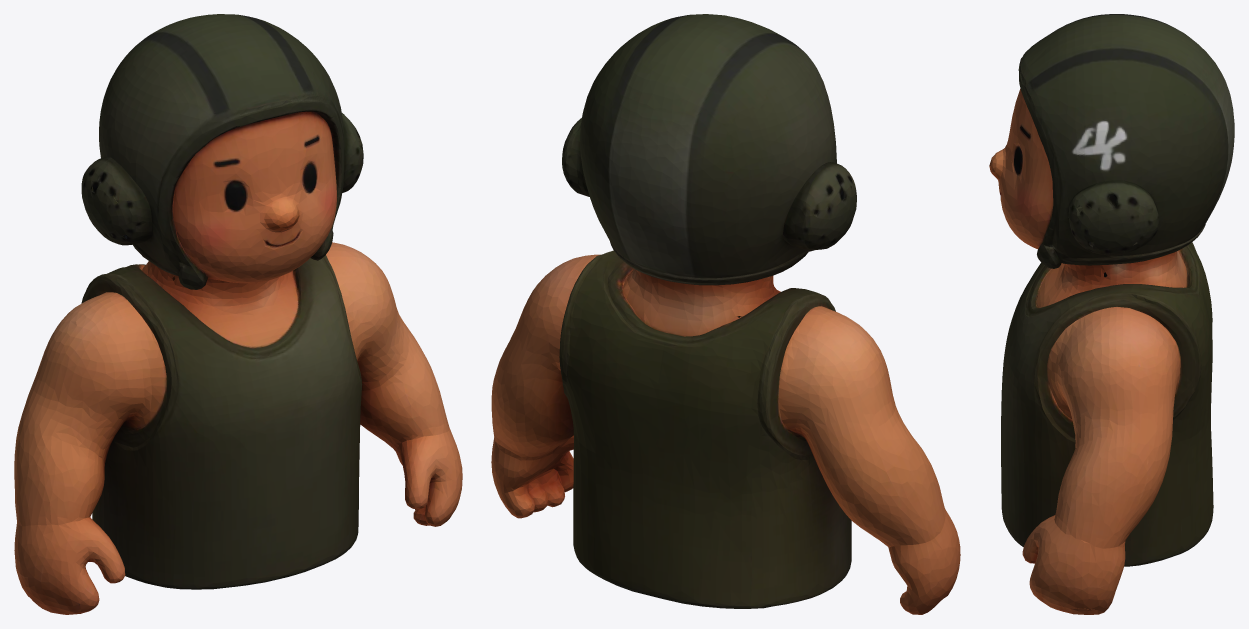
File: player-4.glb
3 views of the same model, side by side, from view 1: azimuth 30°, elevation 25°; view 2: azimuth 150°, elevation 25°; view 3: azimuth 270°, elevation 25° (orthographic). The views are drawn at different scales.
Visible parts, largest first — view 1: geometry_0; view 2: geometry_0; view 3: geometry_0.
Boxes of the visible parts, bbox=[...] form: geometry_0: bbox=[14, 14, 462, 614]; geometry_0: bbox=[491, 14, 960, 614]; geometry_0: bbox=[989, 14, 1234, 614].
Bounding box in the file's own units: 0.6037 × 0.6985 × 0.3103.
1 material, 1 textured.
